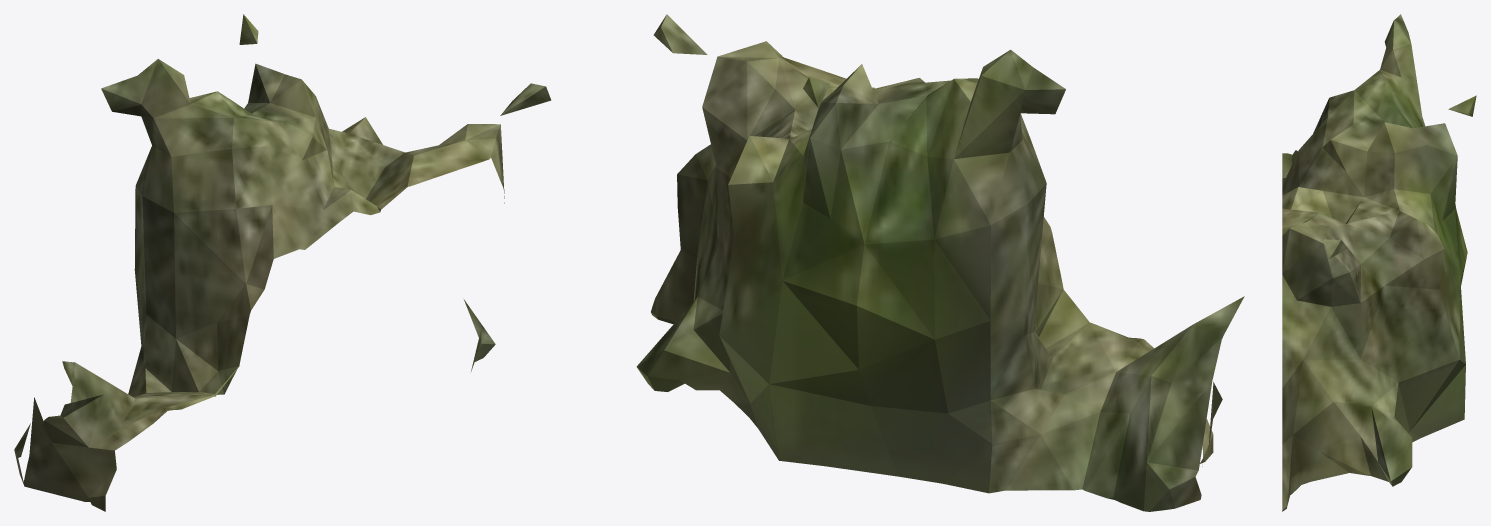
The picture shows the model from 3 angles, left to right: view 1: azimuth 30°, elevation 25°; view 2: azimuth 150°, elevation 25°; view 3: azimuth 270°, elevation 25°; orthographic projection. The views are drawn at different scales.
Bounding box in the file's own units: 5.32 × 3.57 × 1.91.
Materials: 1 (1 with a texture image).
